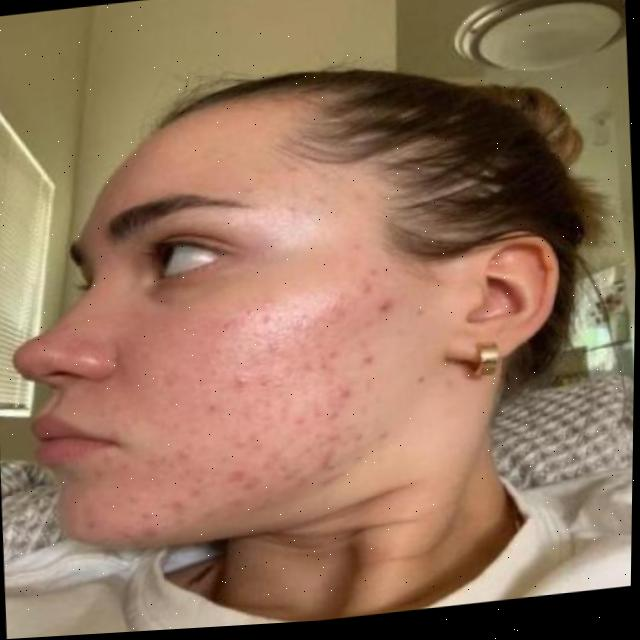Acne: (152, 280, 432, 528)
